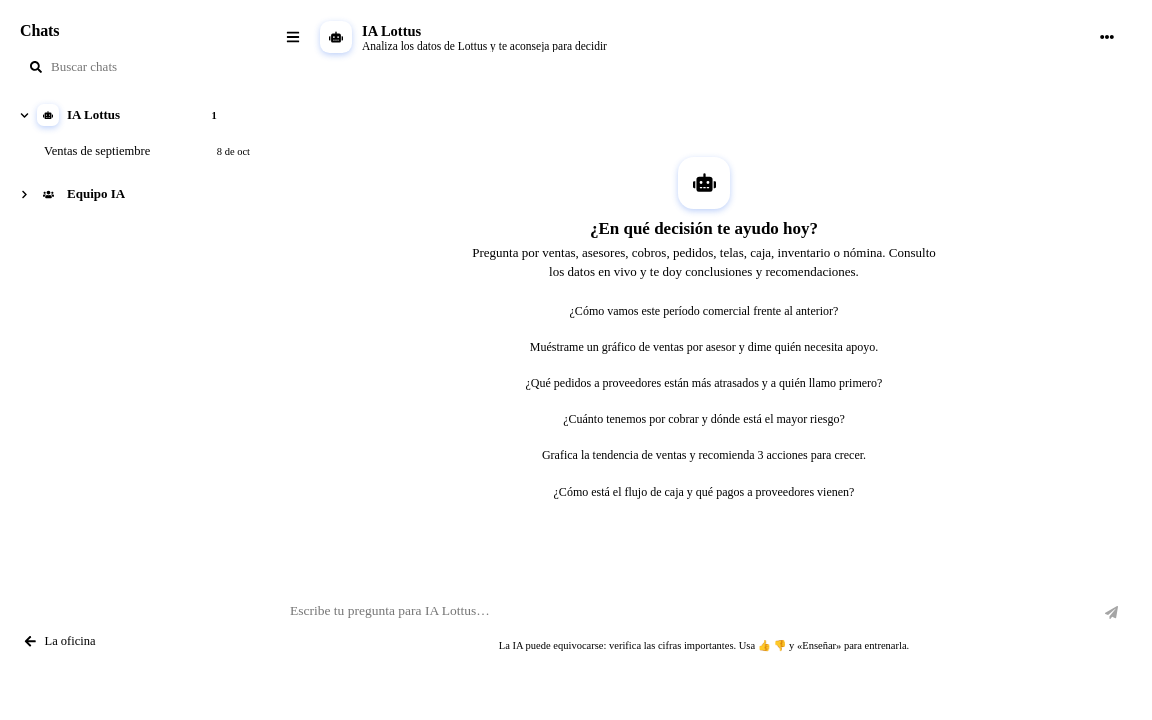
Test: Chat: asesor gerencial › permite cambiar de modelo tras un error y muestra el modelo que respondió
Step 1. Click the button named "Opciones del chat" → point(1107, 37), box [1090,20,1124,54]
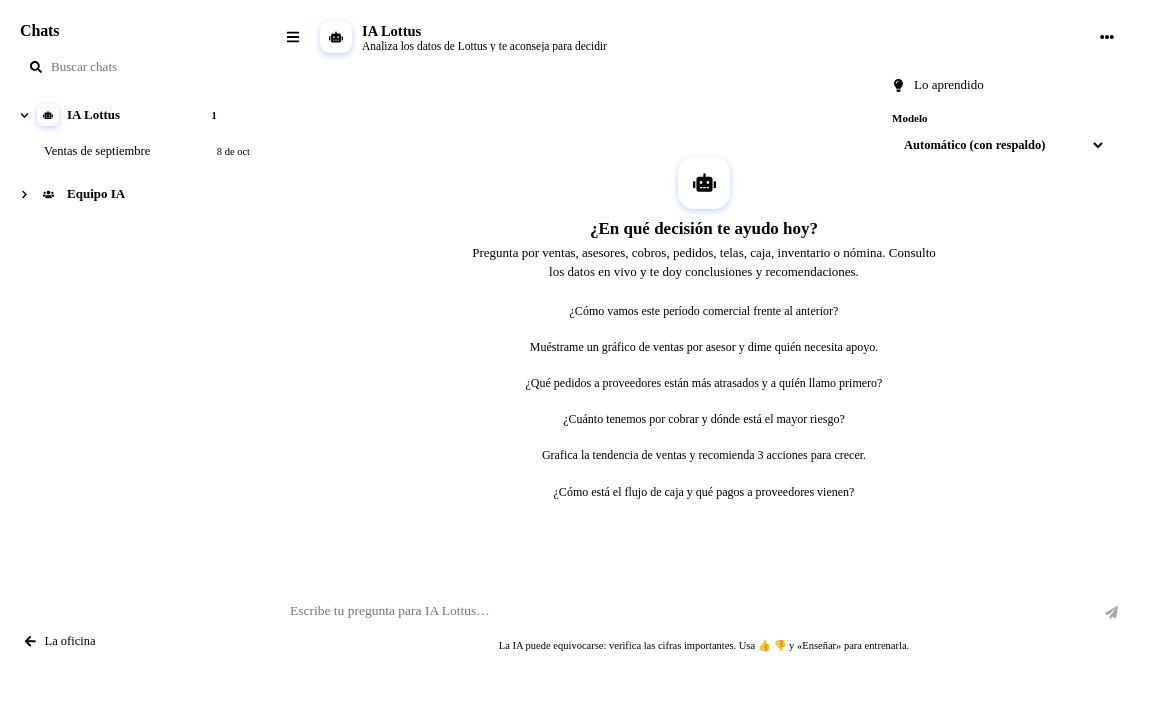
Step 2. Select "gemini-3.7-flash" in the dropdown named "Modelo de IA" → point(999, 145), box [892,129,1106,161]
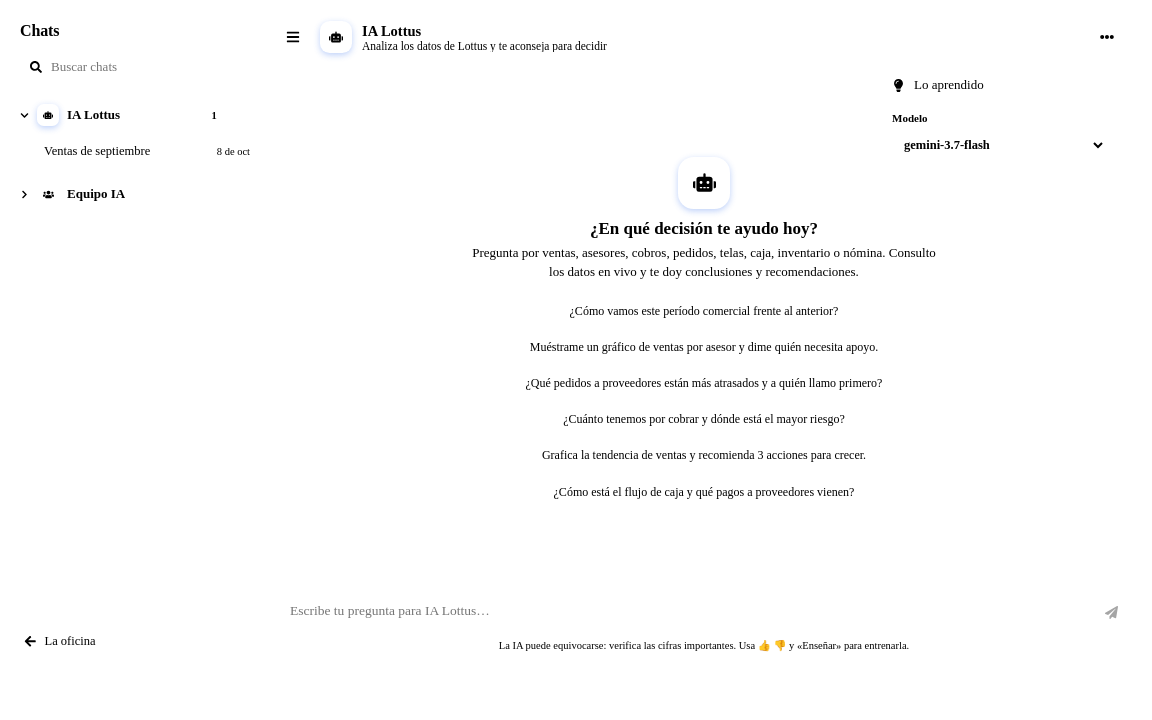
Step 3. Type "Hola" into the text box named "Pregunta para el asesor" → point(689, 612), box [290,595,1088,629]
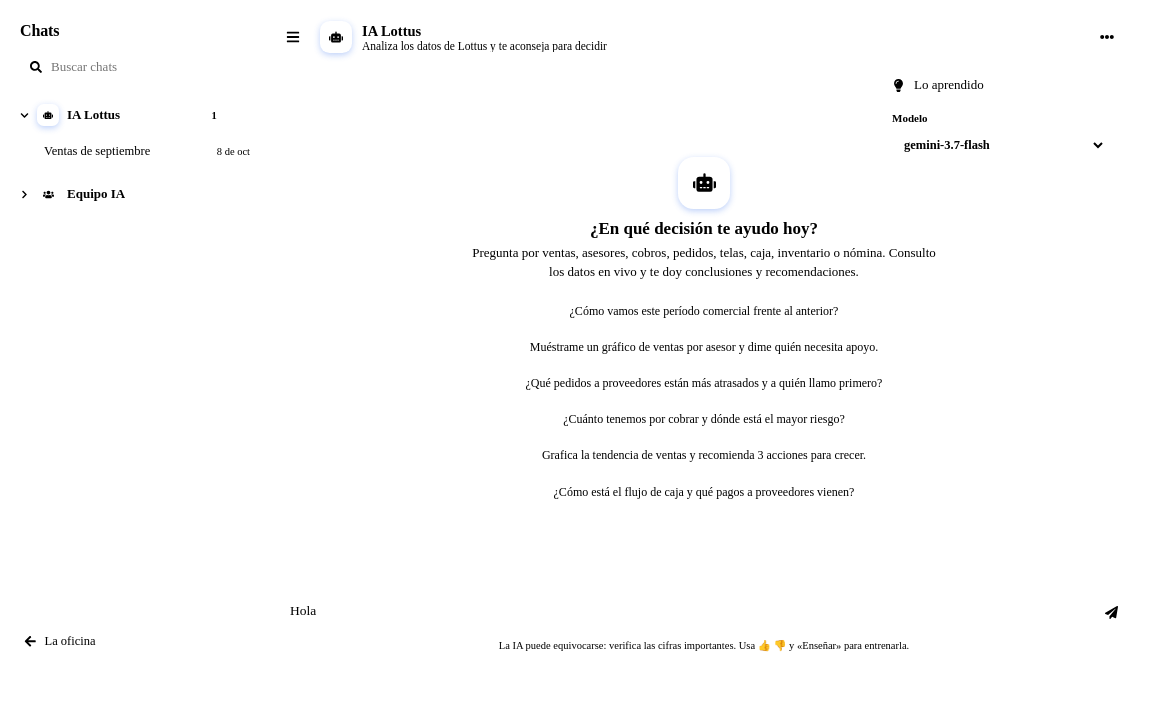
Step 4. Click the button named "Enviar" → point(1111, 612), box [1094,595,1128,629]
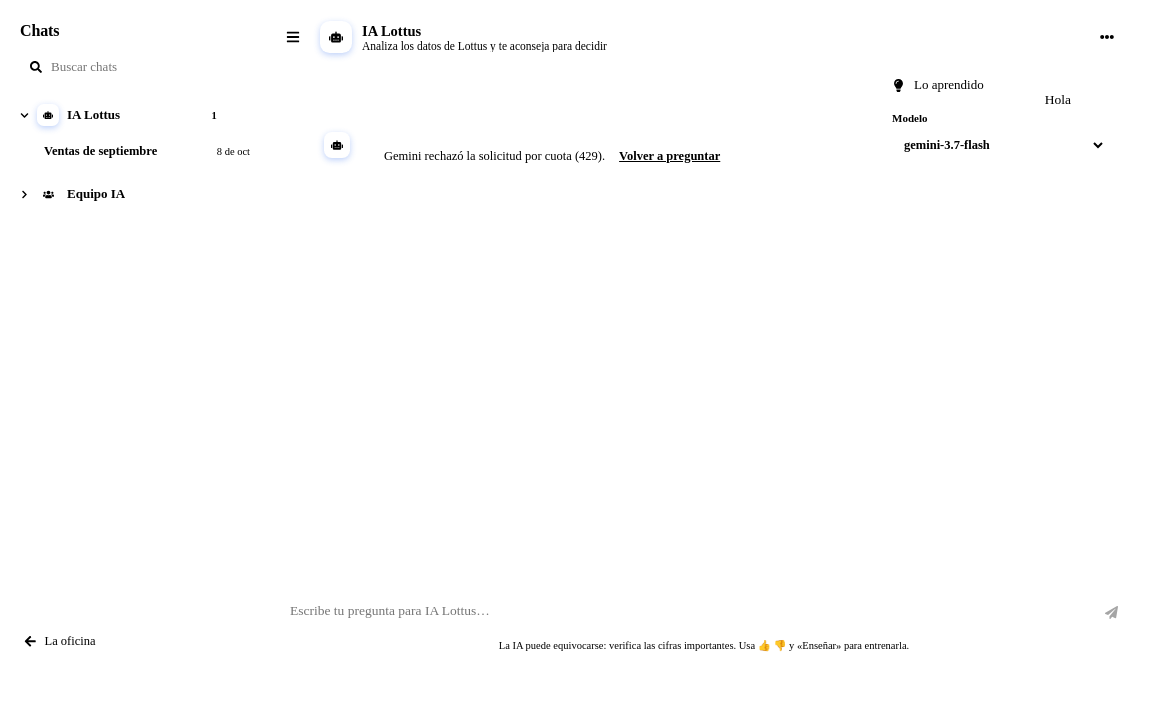
expect the message shows "cuota (429)": met, box [384,149,605,163]
Step 5. Select "gemini-3.6-flash" in the dropdown named "Modelo de IA" → point(999, 145), box [892,129,1106,161]
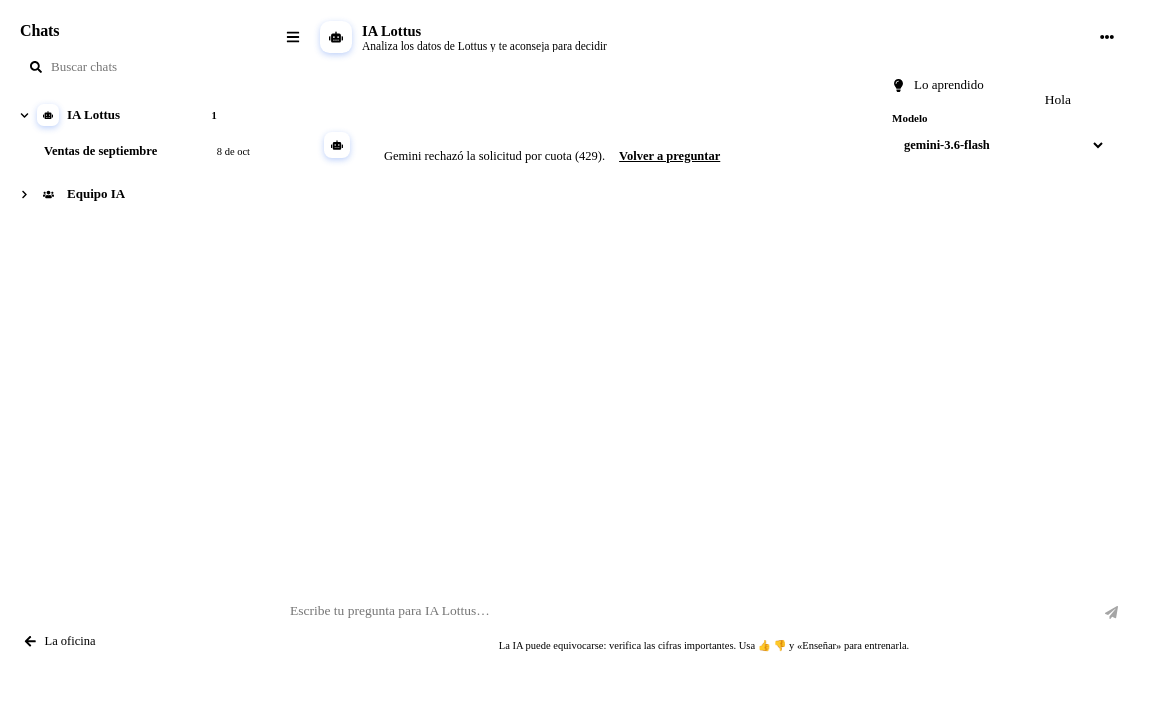
Step 6. Click the button "Volver a preguntar" → point(670, 156), box [613,148,726,165]
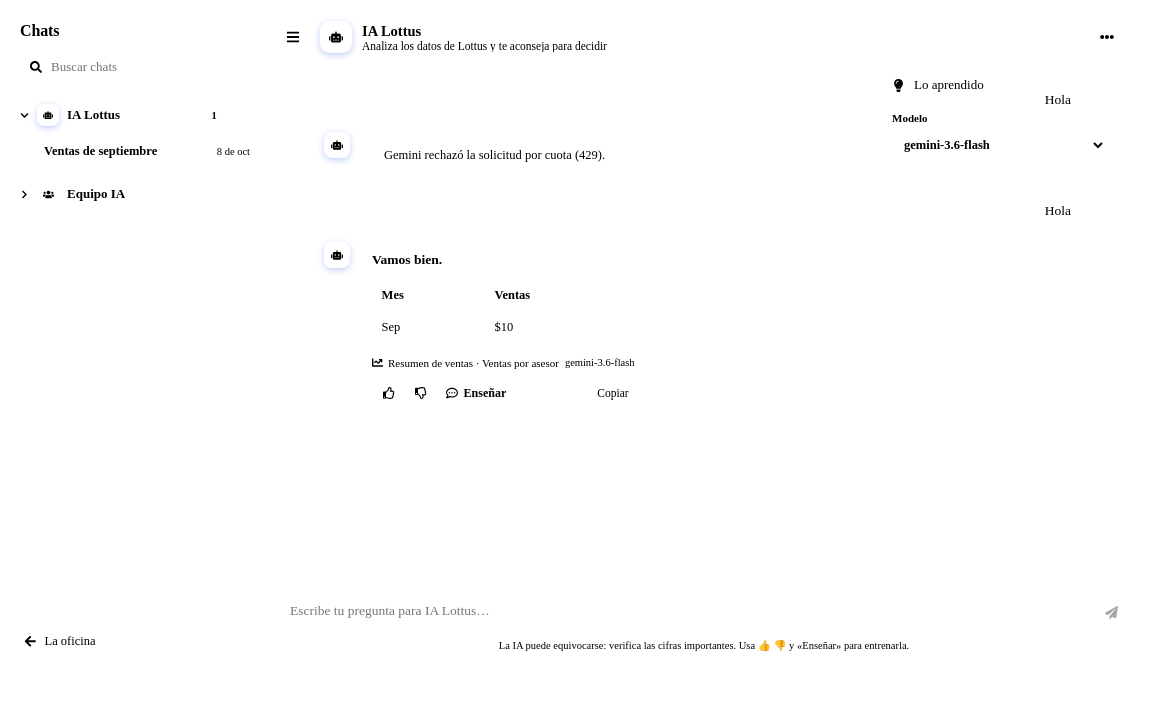
expect the text "Vamos bien." is shown: met, box [372,252,442,267]
expect the text with class "chat-modelo-usado" reads "gemini-3.6-flash": met, box [565,357,635,368]
